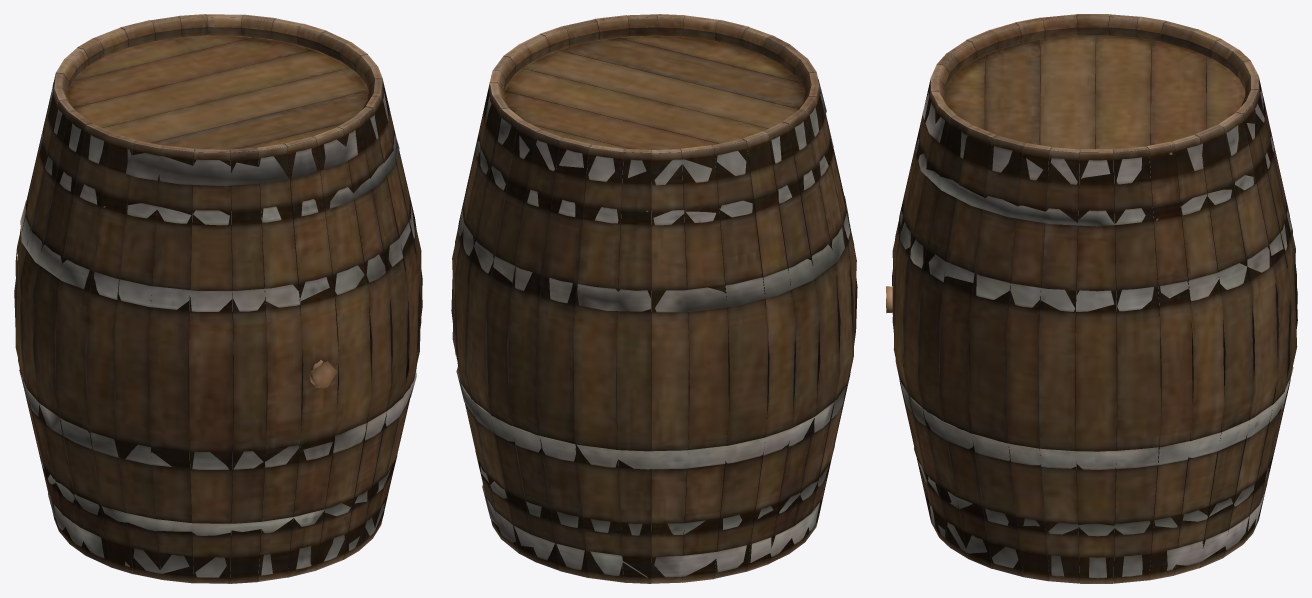
The model's file is barrel_wine.glb.
The picture shows the model from 3 angles, left to right: view 1: azimuth 30°, elevation 25°; view 2: azimuth 150°, elevation 25°; view 3: azimuth 270°, elevation 25°; orthographic projection.
Parts seen in each view (by area): view 1: wine_barrel_01_Lid; view 2: wine_barrel_01_Lid; view 3: wine_barrel_01_Lid.
Part boxes in pixels (<box>): wine_barrel_01_Lid: <box>14,14,422,583</box>; wine_barrel_01_Lid: <box>451,14,857,583</box>; wine_barrel_01_Lid: <box>886,14,1297,583</box>.
Size of the model in its own units: 0.742 by 0.8703 by 0.7525.
1 material, 1 textured.
